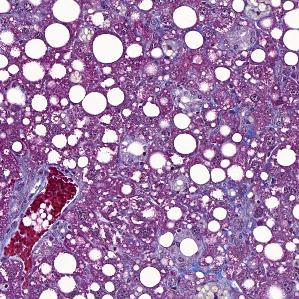fibrosis: (167, 253, 252, 299)
